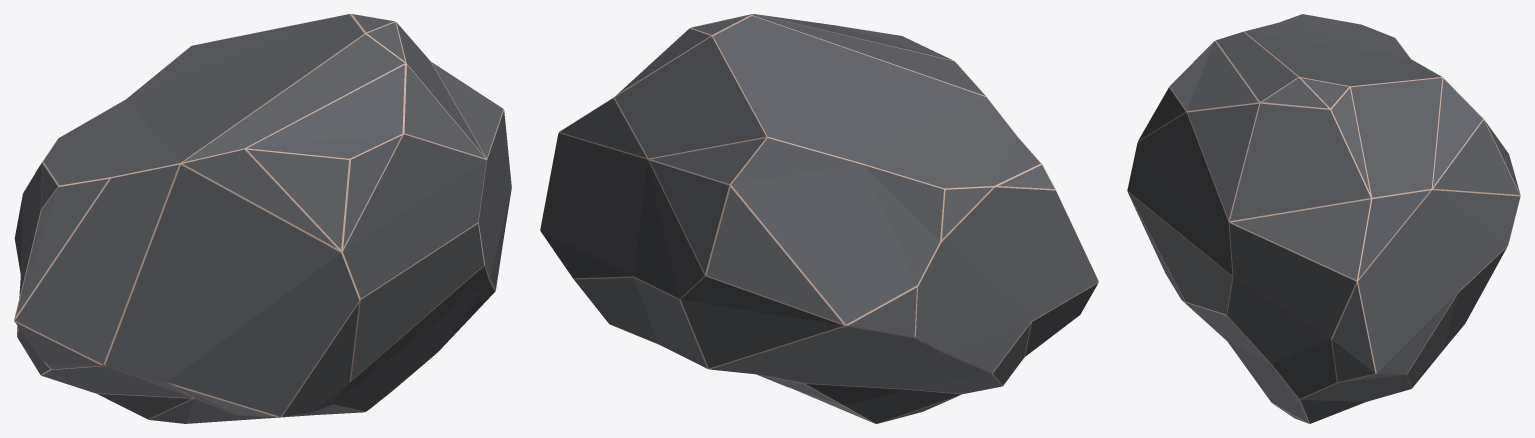
File: batukecil3.fbx
3 views of the same model, side by side, from view 1: azimuth 30°, elevation 25°; view 2: azimuth 150°, elevation 25°; view 3: azimuth 270°, elevation 25° (orthographic). The views are drawn at different scales.
Visible parts, largest first — view 1: Cube.039; view 2: Cube.039; view 3: Cube.039.
Boxes of the visible parts, bbox=[...] form: Cube.039: bbox=[14, 14, 511, 423]; Cube.039: bbox=[540, 14, 1098, 423]; Cube.039: bbox=[1127, 14, 1520, 423].
Size of the model in its own units: 347 by 229 by 241.
